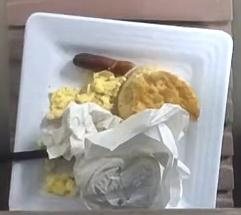biscuit: (118, 71, 199, 119)
sausage: (73, 53, 135, 76)
scrambled_eggs: (49, 70, 124, 116), (45, 172, 74, 194)
